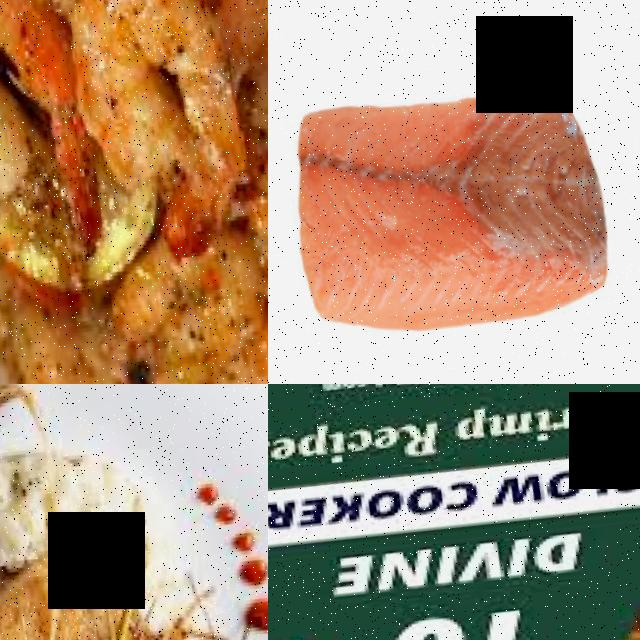salmon: (271, 48, 640, 372)
shrimp: (45, 0, 268, 237), (0, 0, 104, 212)
